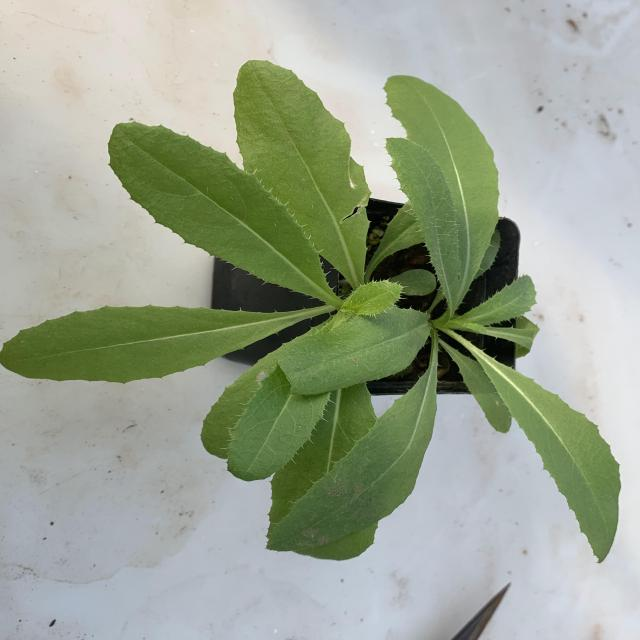field_thistle: (83, 74, 522, 616)
